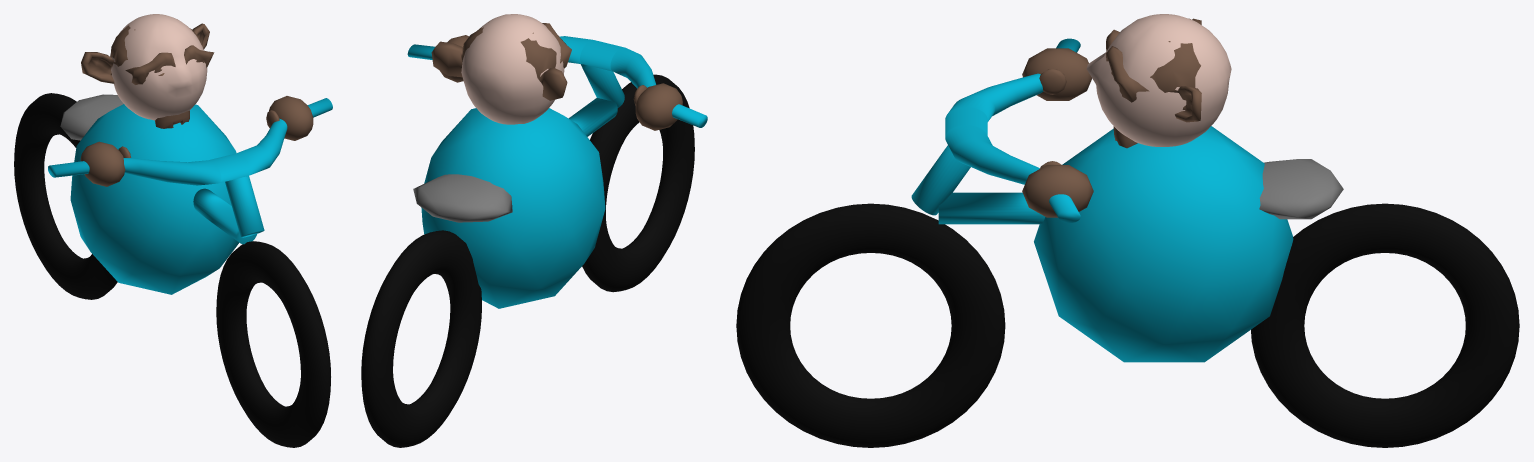
The model's file is blueBike.fbx.
The picture shows the model from 3 angles, left to right: view 1: azimuth 30°, elevation 25°; view 2: azimuth 150°, elevation 25°; view 3: azimuth 270°, elevation 25°; orthographic projection. The views are drawn at different scales.
Visible parts, largest first — view 1: Icosphere.004, Torus.001, Torus.000, Sphere, Cylinder, Suzanne, Icosphere.005, Cylinder.002, Icosphere.003, Cylinder.001, Icosphere; view 2: Icosphere.004, Torus.000, Torus.001, Sphere, Icosphere.005, Cylinder, Suzanne, Icosphere.003, Cylinder.001, Cylinder.002; view 3: Icosphere.004, Torus.001, Torus.000, Sphere, Cylinder, Icosphere.005, Suzanne, Cylinder.001, Icosphere, Icosphere.003, Cylinder.002.
Part boxes in pixels (box(x1,y1,x2,y2)): Icosphere.004: box(70, 104, 238, 294); Torus.001: box(216, 241, 330, 447); Torus.000: box(14, 93, 117, 299); Sphere: box(110, 14, 207, 120); Cylinder: box(48, 98, 332, 185); Suzanne: box(81, 23, 214, 128); Icosphere.005: box(60, 94, 123, 140); Cylinder.002: box(225, 176, 264, 237); Icosphere.003: box(80, 141, 125, 186); Cylinder.001: box(193, 188, 256, 244); Icosphere: box(269, 96, 313, 140); Icosphere.004: box(421, 108, 605, 308); Torus.000: box(361, 230, 481, 447); Torus.001: box(582, 74, 694, 292); Sphere: box(461, 14, 564, 124); Icosphere.005: box(413, 174, 512, 222); Cylinder: box(407, 36, 707, 127); Suzanne: box(431, 22, 571, 100); Icosphere.003: box(635, 83, 682, 130); Cylinder.001: box(568, 98, 617, 136); Cylinder.002: box(580, 64, 624, 107); Icosphere.004: box(1034, 126, 1293, 362); Torus.001: box(736, 203, 1005, 447); Torus.000: box(1251, 203, 1519, 447); Sphere: box(1086, 14, 1231, 146); Cylinder: box(945, 38, 1080, 223); Icosphere.005: box(1259, 159, 1343, 219); Suzanne: box(1106, 18, 1201, 148); Cylinder.001: box(938, 192, 1045, 224); Icosphere: box(1022, 165, 1093, 217); Icosphere.003: box(1022, 48, 1091, 100); Cylinder.002: box(911, 145, 970, 215).
Bounding box in the file's own units: 5.91 × 6.89 × 11.41.
